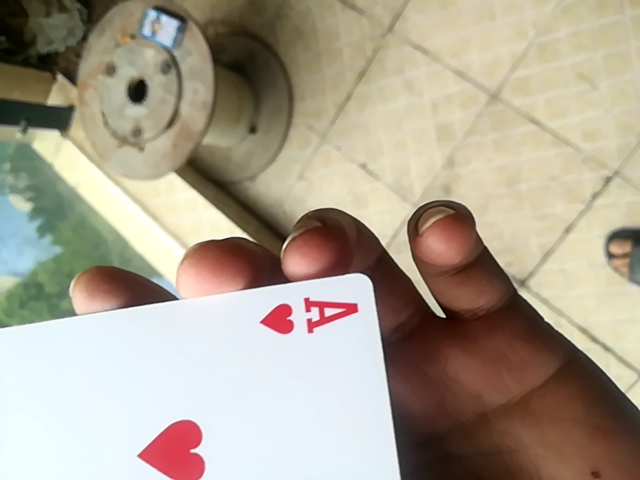hx a: (3, 270, 399, 480)
